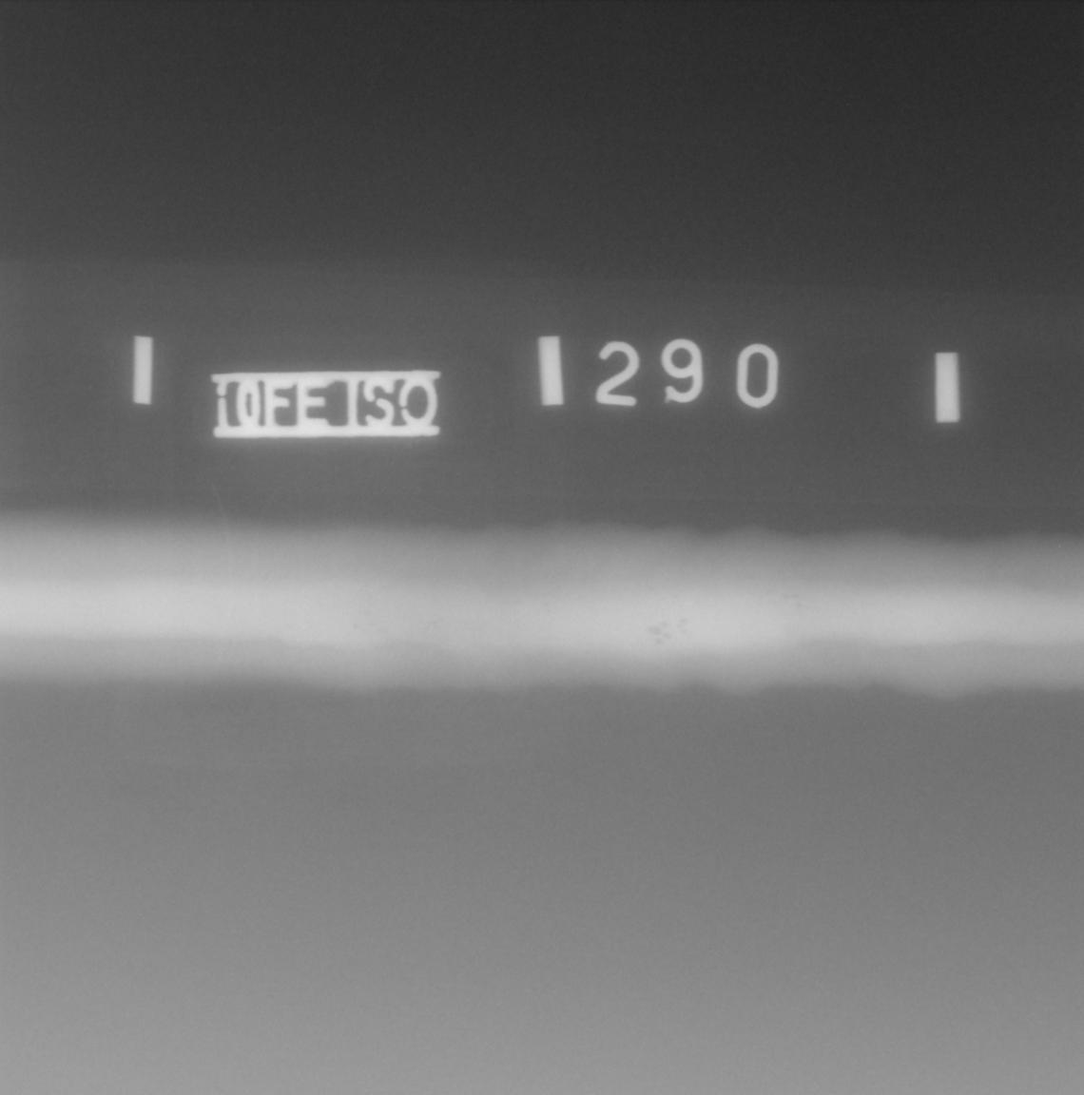Pore/Porosity: (676, 625, 688, 635), (649, 627, 661, 635), (653, 639, 662, 647), (374, 630, 386, 636), (660, 621, 670, 628), (664, 632, 673, 639), (681, 619, 688, 626), (363, 611, 371, 615), (783, 594, 789, 599), (369, 622, 375, 627), (793, 593, 800, 597), (354, 624, 357, 629), (797, 604, 801, 607), (363, 631, 367, 634), (544, 603, 548, 606), (545, 610, 548, 612)
